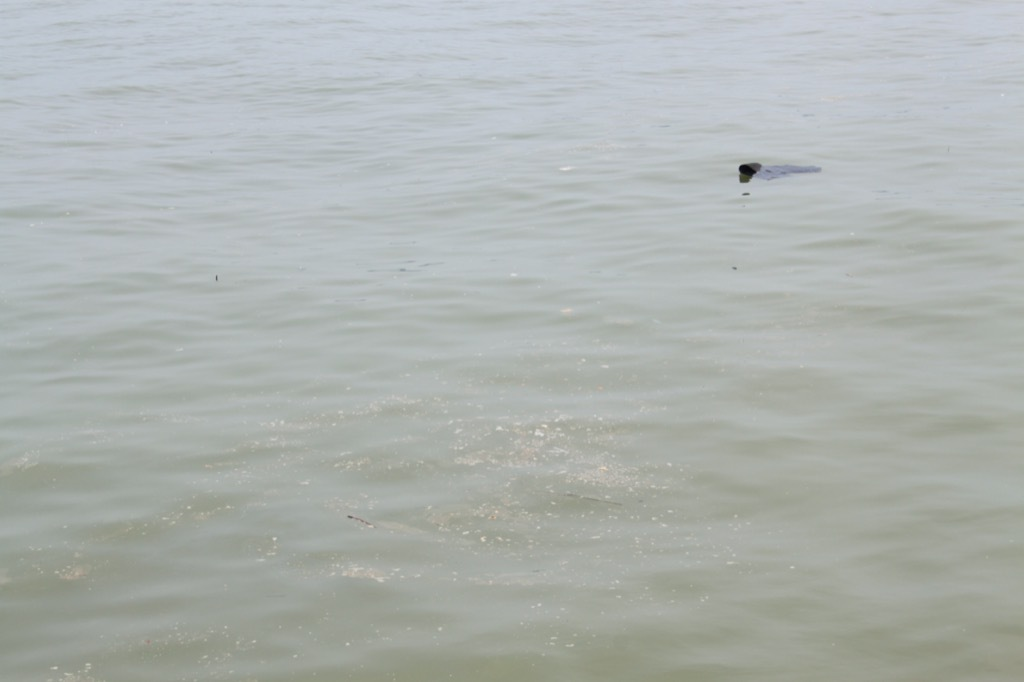organic: (337, 507, 391, 540), (203, 264, 230, 290)
plastic: (728, 140, 827, 194), (551, 297, 586, 329), (481, 123, 512, 153), (499, 261, 531, 290), (549, 158, 586, 181), (722, 250, 745, 284), (727, 185, 759, 205)
